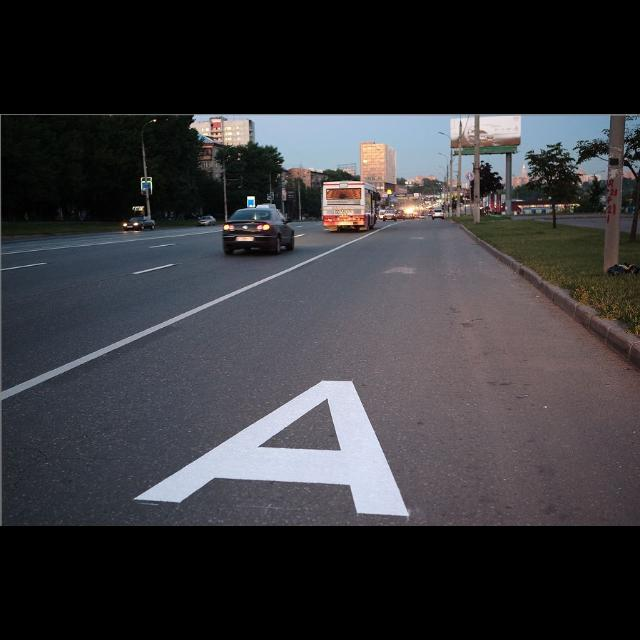road: (0, 222, 639, 526)
